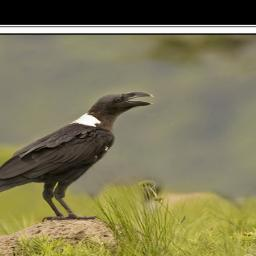Crow: (0, 90, 155, 223)
